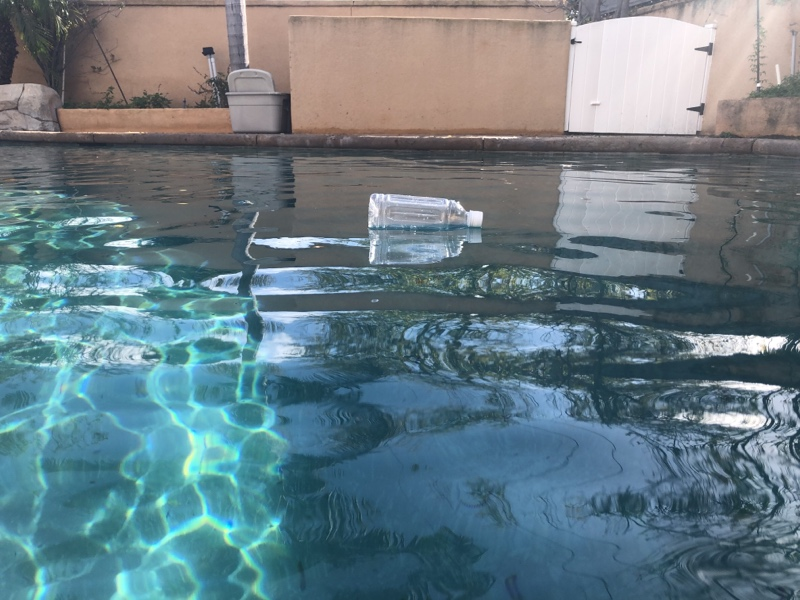Plastic Bottle: (365, 188, 486, 235)
